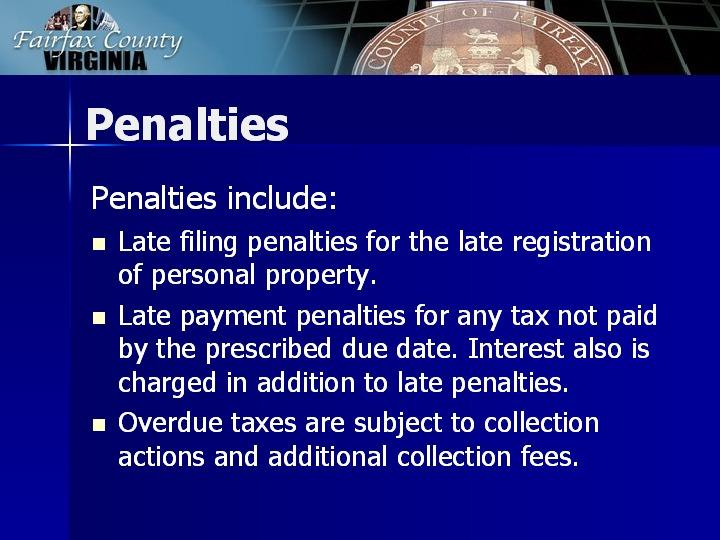paragraph: (82, 171, 696, 500)
subtitle: (10, 23, 193, 77)
title: (75, 90, 305, 156)
